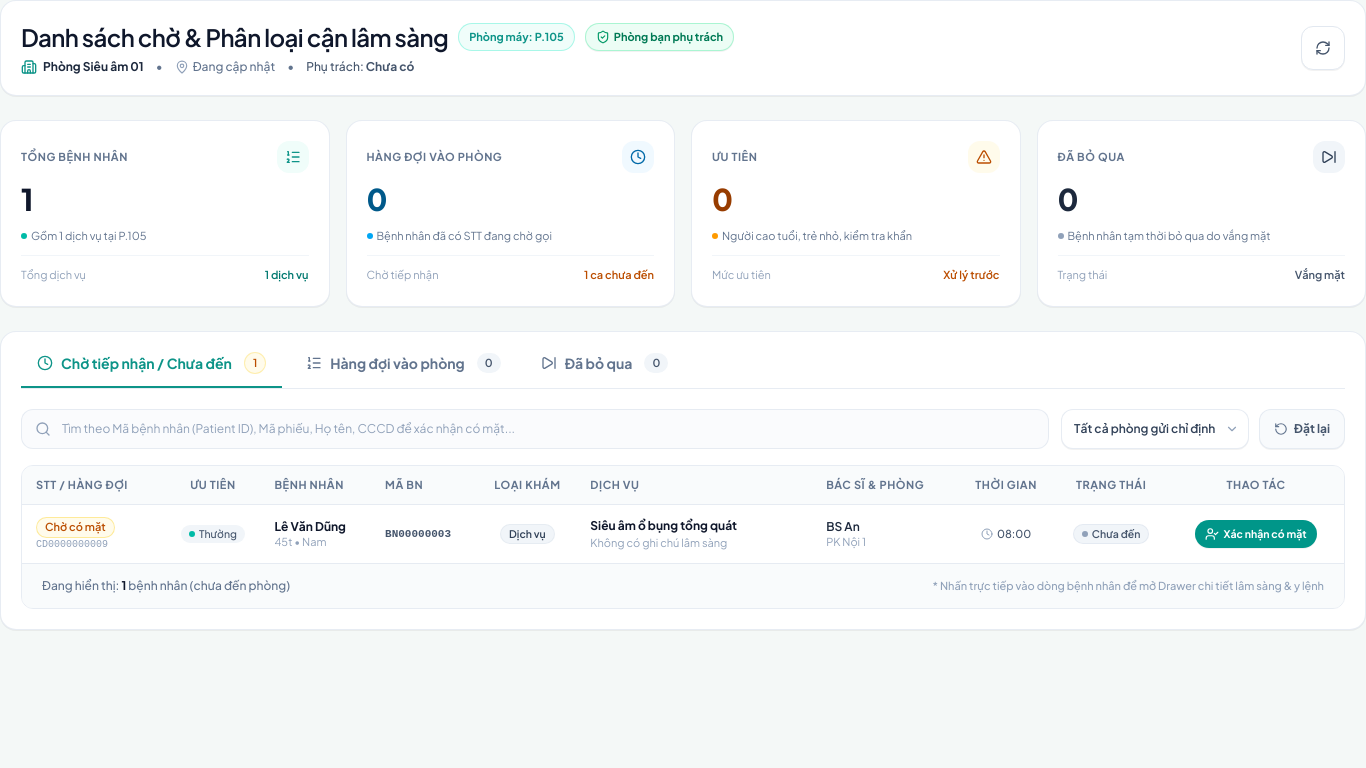
it: TechnicianQueuePage – UC-66 Perform Paraclinical Order › renders unconfirmed patient in Tab 1 with dash STT, and switches to Tab 2 on check-in
Check: the text "Chờ có mặt" is shown, box [36, 517, 115, 538]
// Click "Xác nhận có mặt"
Click the button "Xác nhận có mặt" at (1256, 534), box [1195, 520, 1317, 548]
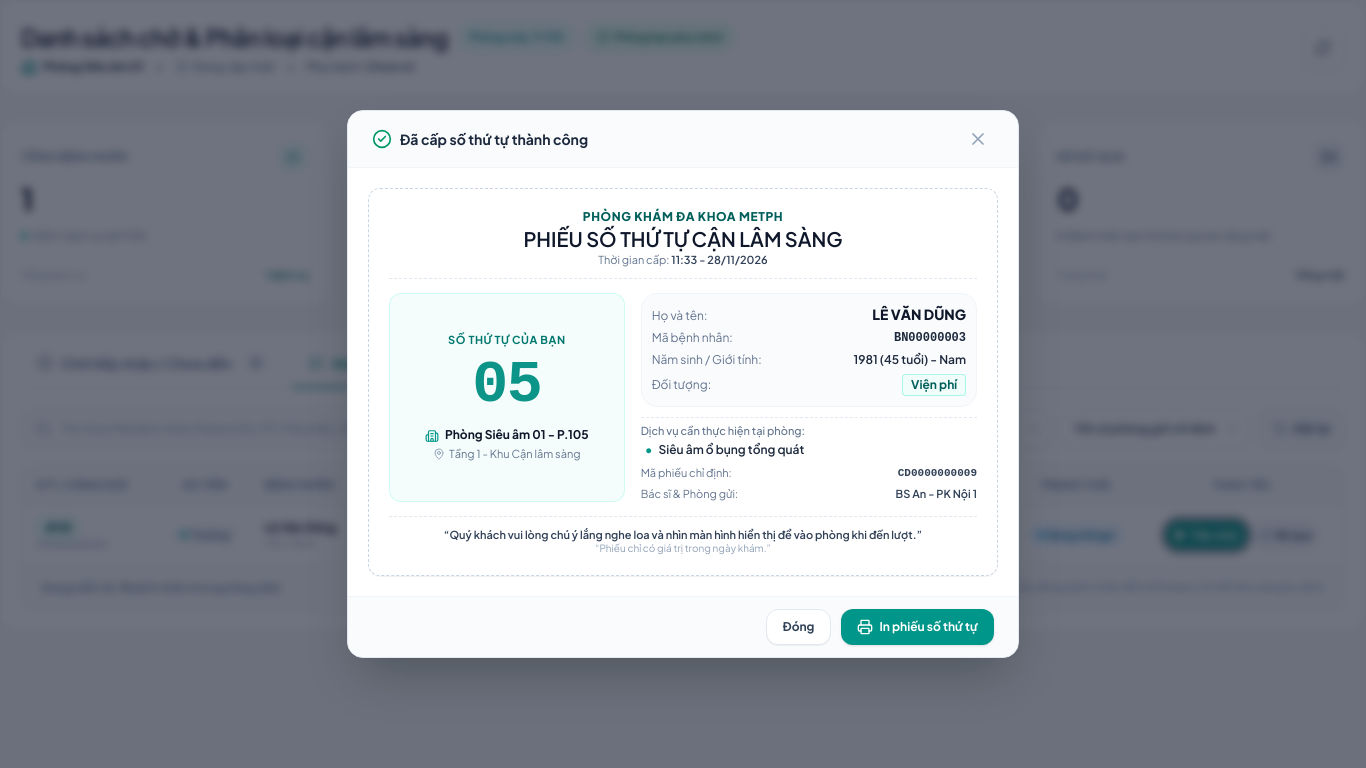
Check: the dialog "Đã cấp số thứ tự thành công" is shown, box [347, 110, 1019, 658]
Check: the heading "PHIẾU SỐ THỨ TỰ CẬN LÂM SÀNG" is shown, box [523, 226, 843, 251]
Check: the text "LÊ VĂN DŨNG" is shown, box [872, 304, 966, 324]
// Đóng popup
Click the button "Đóng" at (799, 627), box [766, 609, 832, 645]
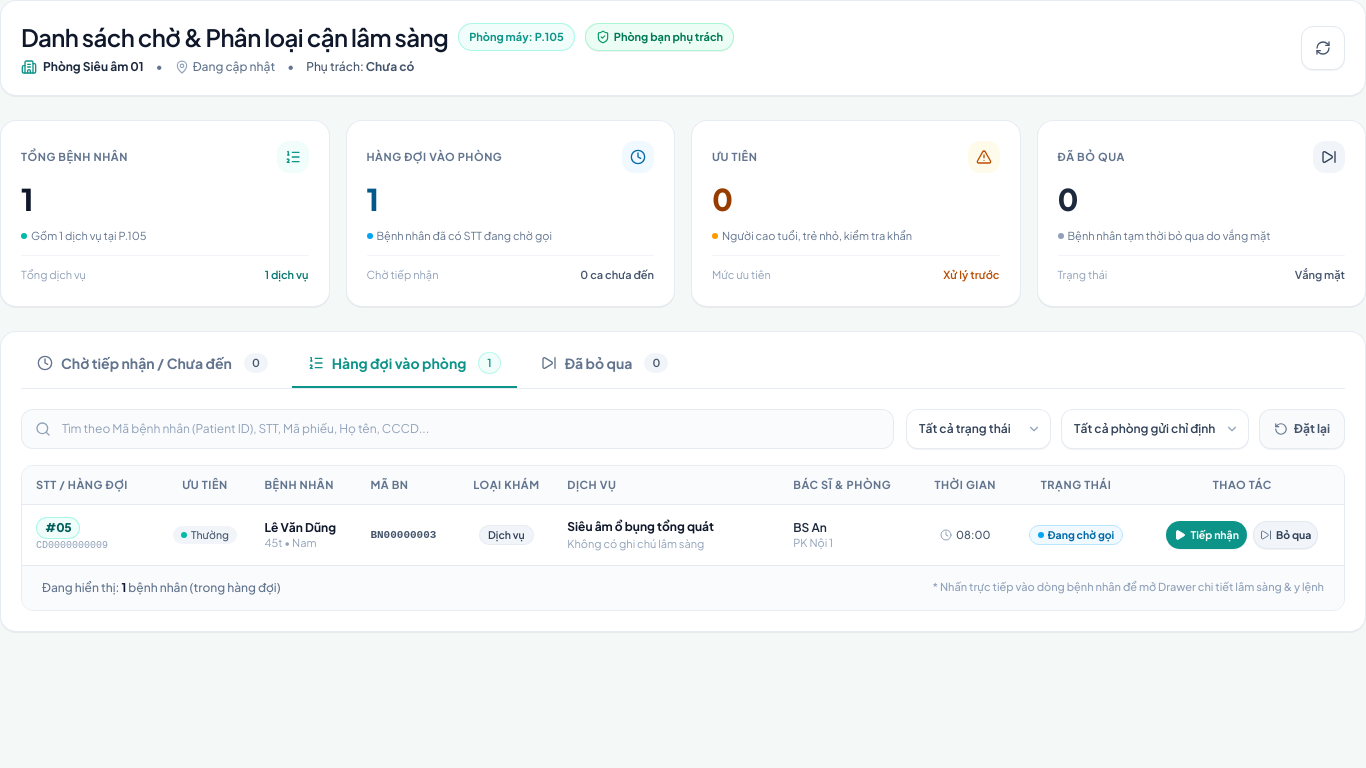
Check: the text "#05" is shown, box [36, 517, 80, 539]
Check: the button "Tiếp nhận" is shown, box [1166, 521, 1247, 549]
Check: the heading "Đã cấp số thứ tự thành công" is gone
